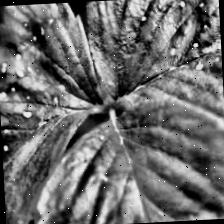Leaf Spot: (21, 92, 224, 224), (0, 0, 113, 224), (82, 0, 224, 162)
